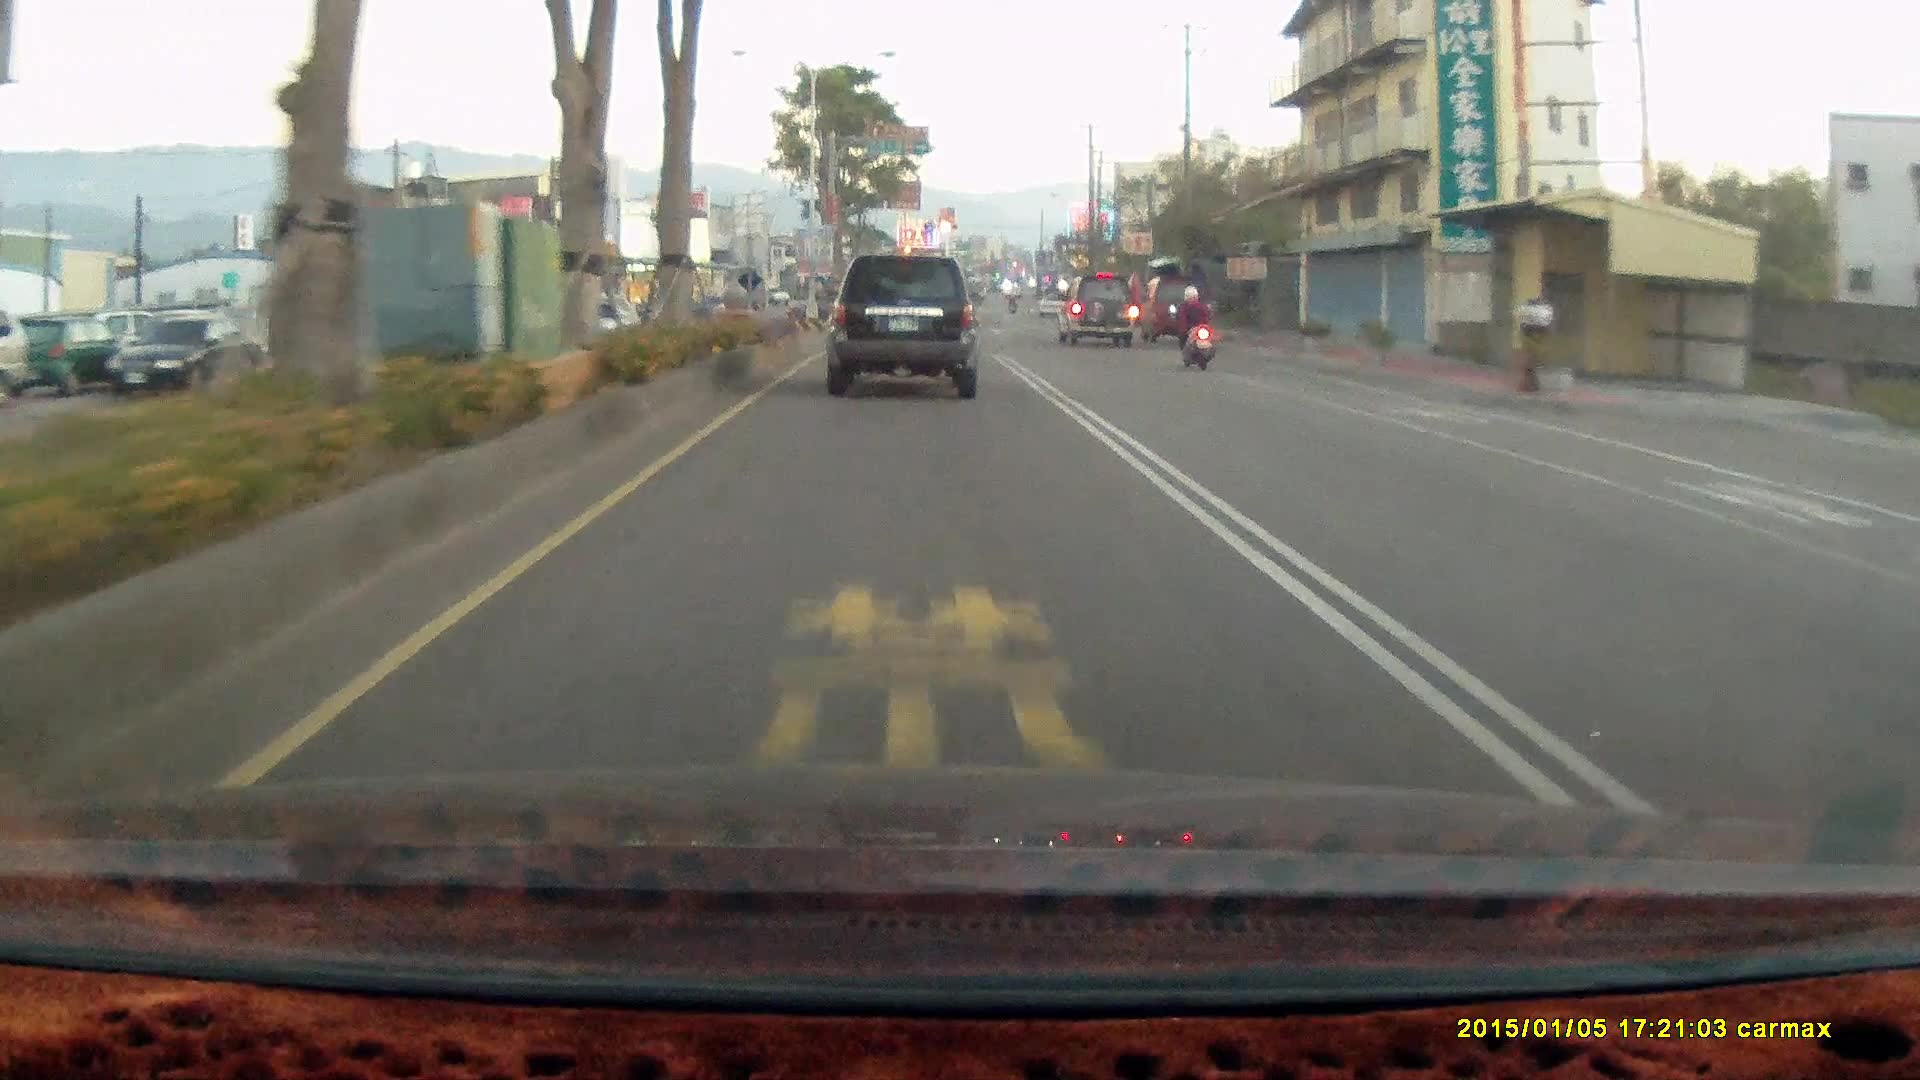rider: (1164, 278, 1223, 374), (1165, 287, 1215, 374)
vehicle: (828, 256, 989, 398), (822, 253, 980, 396), (102, 315, 259, 400), (111, 313, 255, 401), (1063, 276, 1147, 350), (1054, 275, 1138, 348), (1142, 275, 1210, 349), (1139, 274, 1207, 341), (1, 306, 34, 407)
